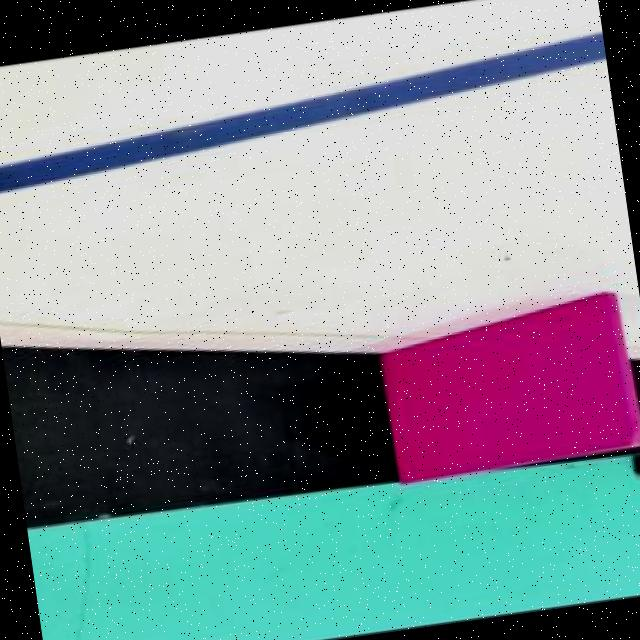xparking: (383, 302, 634, 468)
